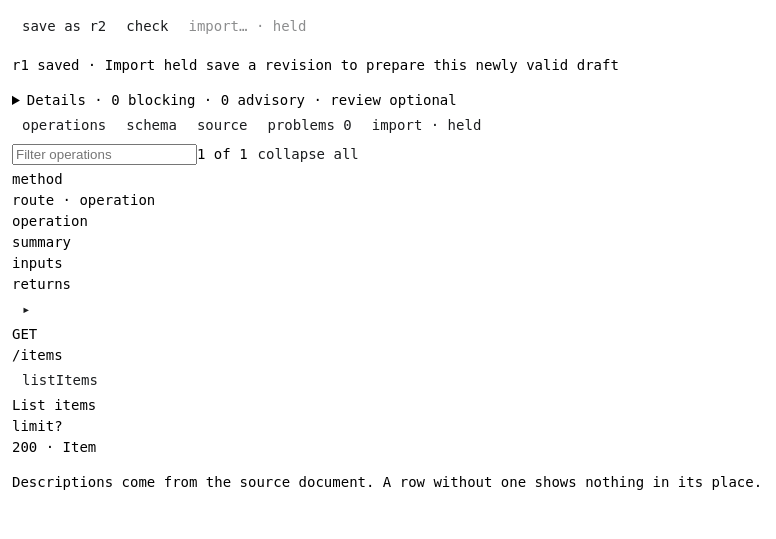
lets a newly valid retained draft be explicitly saved before import
The image size is (776, 539).
Expected: the button "import… · held" is disabled, [178, 12, 316, 41]
Click the button "save as r2": [64, 26] box [12, 12, 116, 41]
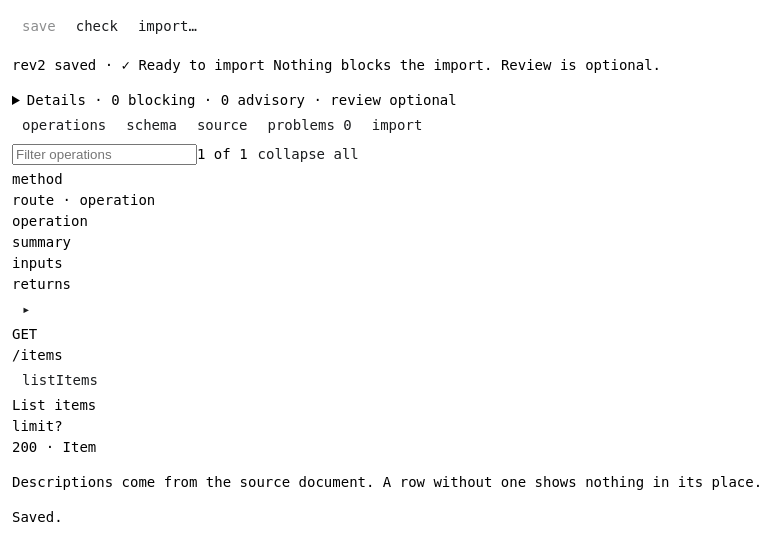
Expected: the button "import…" is enabled, [128, 12, 207, 41]
